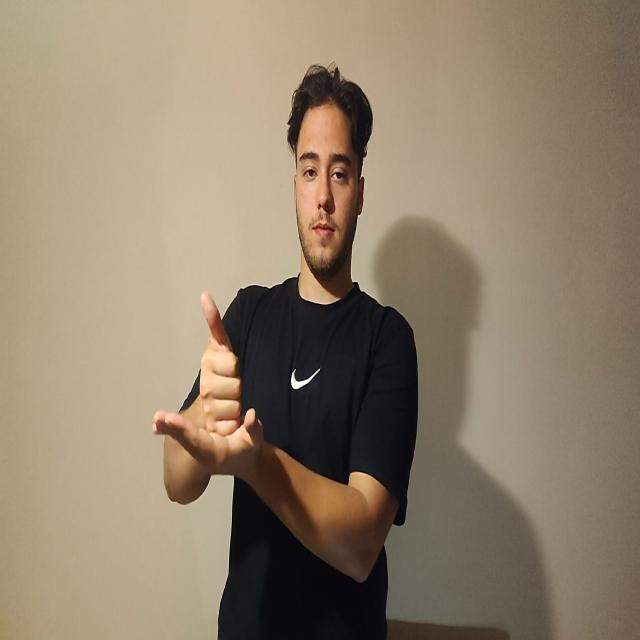help: (155, 290, 269, 478)
